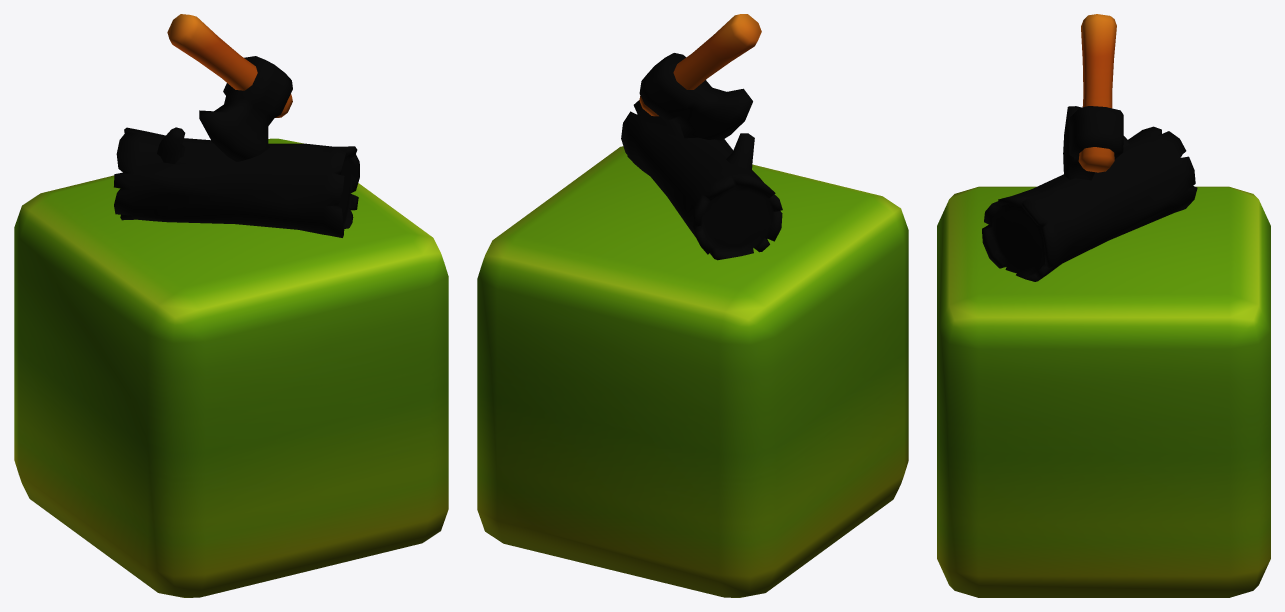
File: block_tree_2.fbx
3 renders of one model, left to right at view 1: azimuth 30°, elevation 25°; view 2: azimuth 150°, elevation 25°; view 3: azimuth 270°, elevation 25°, orthographic. The views are drawn at different scales.
Visible parts, largest first — view 1: block_tree_2; view 2: block_tree_2; view 3: block_tree_2.
Part boxes in pixels (x1,y1,x2,y2): block_tree_2: (14, 14, 448, 597); block_tree_2: (477, 14, 908, 597); block_tree_2: (937, 14, 1270, 597).
Size of the model in its own units: 200 by 336 by 200.
